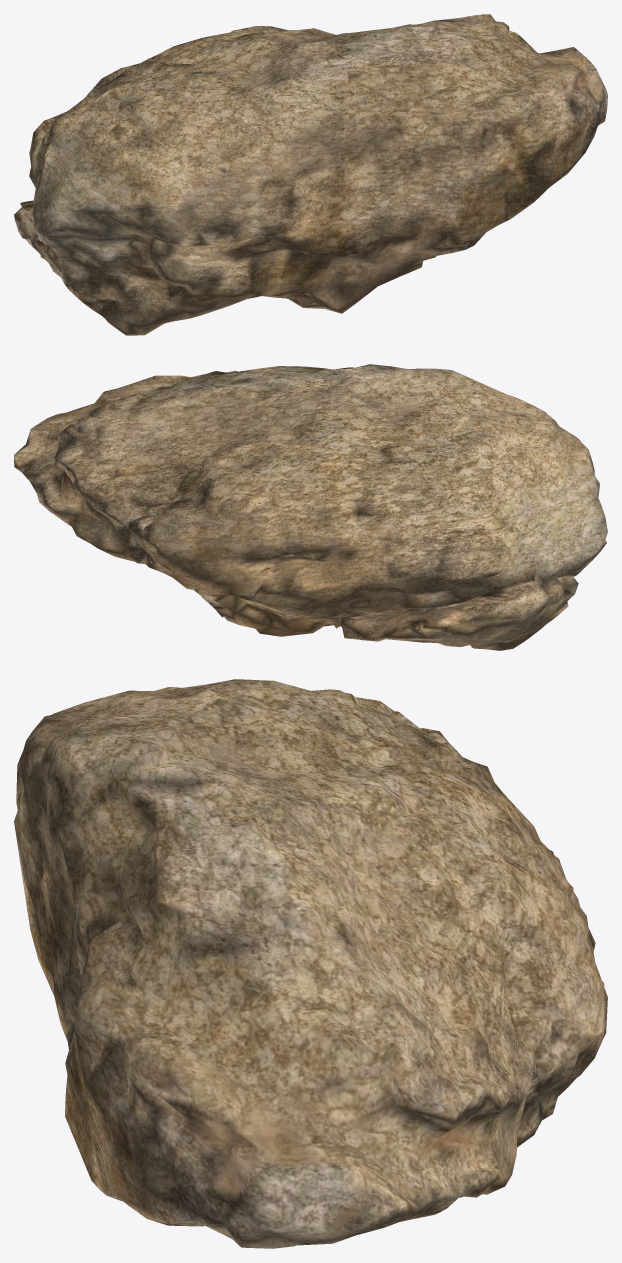
The model's file is namaqualand_boulder_05.glb.
The picture shows the model from 3 angles, top to bottom: view 1: azimuth 30°, elevation 25°; view 2: azimuth 150°, elevation 25°; view 3: azimuth 270°, elevation 25°; orthographic projection. The views are drawn at different scales.
Visible parts, largest first — view 1: namaqualand_boulder_05_LOD0; view 2: namaqualand_boulder_05_LOD0; view 3: namaqualand_boulder_05_LOD0.
Boxes of the visible parts, left/top/right/bottom form: namaqualand_boulder_05_LOD0: left=14, top=14, right=607, bottom=335; namaqualand_boulder_05_LOD0: left=14, top=364, right=607, bottom=650; namaqualand_boulder_05_LOD0: left=14, top=679, right=607, bottom=1248.
Size of what is drawn, in the model's own units: 1.36 by 0.5362 by 0.7462.
Materials: 1 (1 with a texture image).
